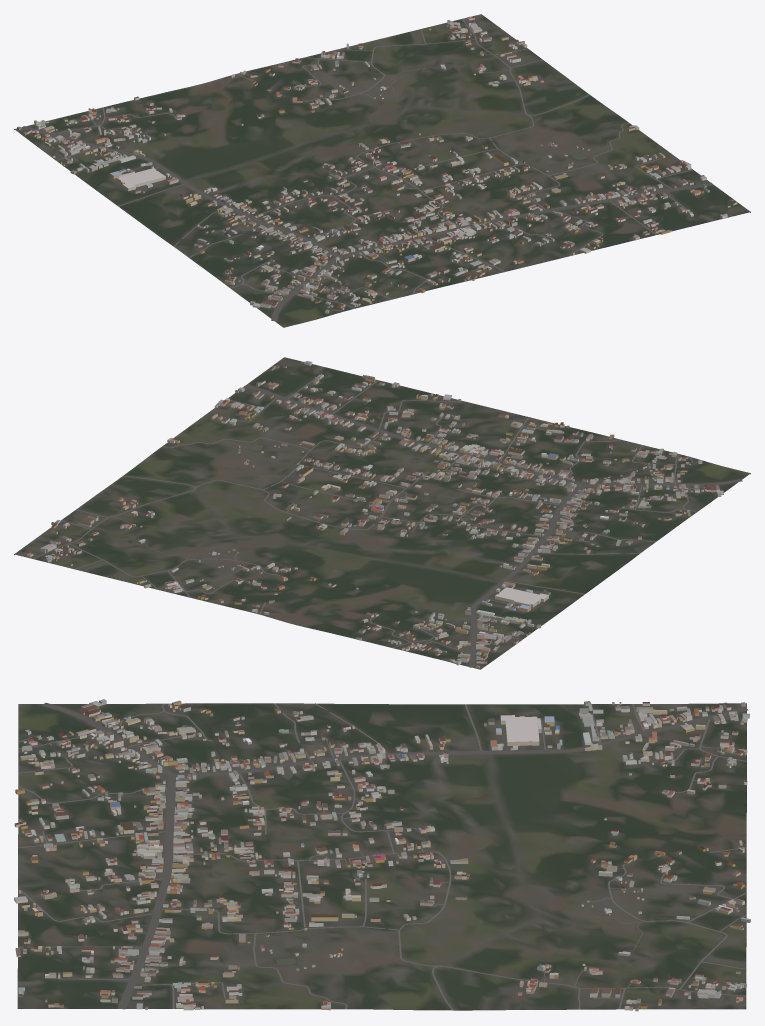
3 renders of one model, top to bottom at view 1: azimuth 30°, elevation 25°; view 2: azimuth 150°, elevation 25°; view 3: azimuth 270°, elevation 25°, orthographic. The views are drawn at different scales.
Parts seen in each view (by area): view 1: ground, buildings, roads; view 2: ground, buildings, roads; view 3: ground, buildings, roads.
Part boxes in pixels (x1,y1,x2,y2): ground: [14, 14, 750, 327]; buildings: [17, 16, 737, 313]; roads: [21, 18, 732, 320]; ground: [14, 357, 750, 669]; buildings: [26, 361, 723, 668]; roads: [33, 361, 742, 667]; ground: [17, 703, 746, 1010]; buildings: [14, 699, 750, 1011]; roads: [17, 702, 748, 1010].
Bounding box in the file's own units: 1416 × 20.47 × 1417.
